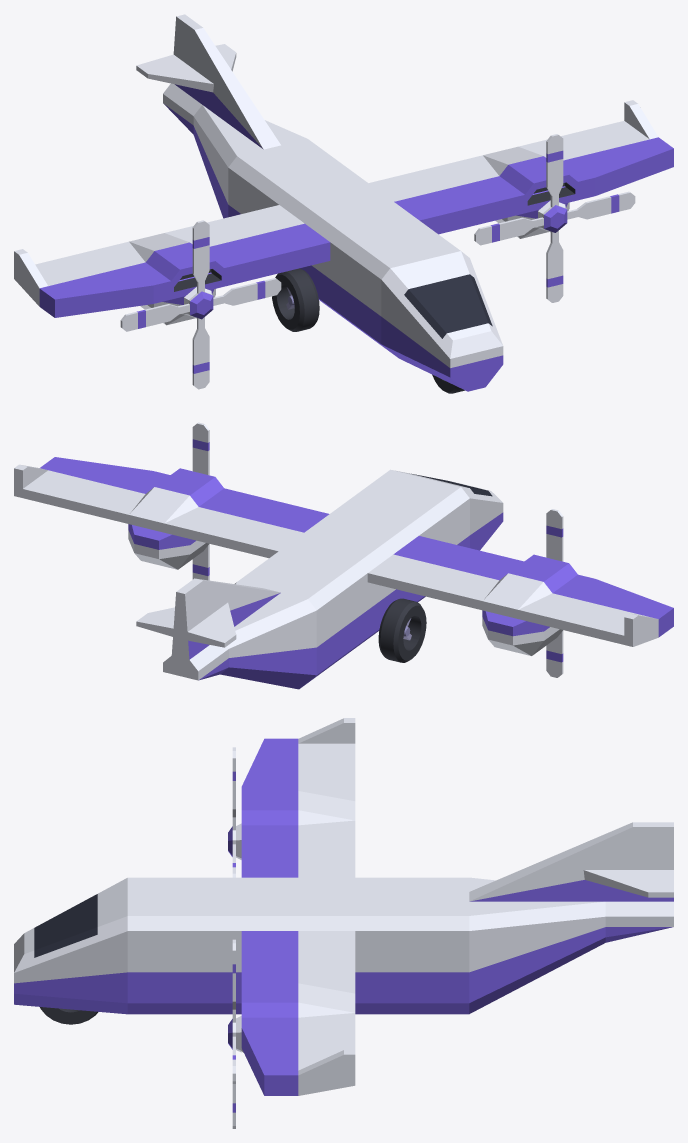
3 views of the same model, one above another, from view 1: azimuth 30°, elevation 25°; view 2: azimuth 150°, elevation 25°; view 3: azimuth 270°, elevation 25° (orthographic). The views are drawn at different scales.
Parts seen in each view (by area): view 1: hull_body, wing_slantWingletHigh (×2), hull_cockpitPoint, wing (×2), wing_engineMiddle (×2), propeller_quad (×2), rudder_sides, hull_tailTop, wheel_spokes, hull_tailEdge; view 2: hull_body, wing_engineMiddle (×2), wing_slantWingletHigh (×2), wing (×2), hull_tailTop, rudder_sides, hull_lowerFrontPoint (×2), propeller_quad (×2), wheel_spokes, hull_cockpitPoint, hull_tailEdge; view 3: hull_body, wing_slantWingletHigh (×2), hull_cockpitPoint, wing_engineMiddle (×2), hull_tailTop, rudder_sides, wing (×2), hull_tailEdge, propeller_quad (×2), wheel_spokes.
Part boxes in pixels (x1,y1,x2,y2): hull_body: (228, 139, 460, 355); wing_slantWingletHigh (×2): (14, 100, 673, 317); hull_cockpitPoint: (381, 251, 503, 391); wing (×2): (191, 162, 507, 282); wing_engineMiddle (×2): (103, 140, 595, 303); propeller_quad (×2): (120, 134, 635, 389); rudder_sides: (136, 14, 280, 149); hull_tailTop: (193, 105, 307, 218); wheel_spokes: (272, 268, 319, 331); hull_tailEdge: (163, 83, 201, 134); hull_body: (237, 469, 469, 686); wing_engineMiddle (×2): (102, 468, 594, 625); wing_slantWingletHigh (×2): (14, 457, 673, 646); wing (×2): (191, 492, 506, 603); hull_tailTop: (220, 582, 316, 689); rudder_sides: (136, 578, 280, 659); hull_lowerFrontPoint (×2): (128, 524, 556, 655); propeller_quad (×2): (192, 422, 563, 677); wheel_spokes: (378, 598, 426, 662); hull_cockpitPoint: (395, 470, 503, 550); hull_tailEdge: (163, 645, 228, 680); hull_body: (127, 877, 469, 1014); wing_slantWingletHigh (×2): (241, 718, 355, 1095); hull_cockpitPoint: (14, 878, 127, 1014); wing_engineMiddle (×2): (241, 787, 355, 1027); hull_tailTop: (469, 877, 605, 1013); rudder_sides: (469, 822, 673, 901); wing (×2): (241, 835, 355, 979); hull_tailEdge: (605, 901, 673, 942); propeller_quad (×2): (228, 747, 241, 1128); wheel_spokes: (40, 1007, 98, 1024).
Size of the model in its own units: 70 by 20 by 58.
